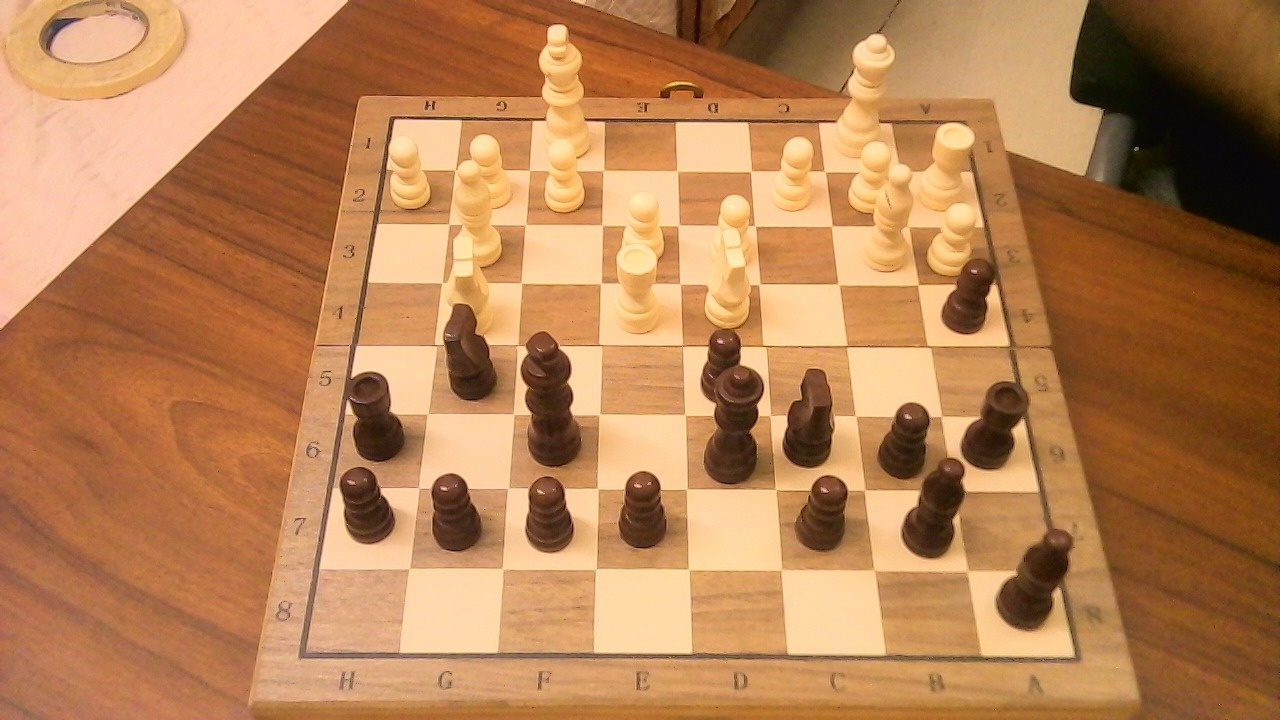B: (856, 154, 923, 277), (449, 149, 513, 271)
K: (533, 13, 598, 164)
N: (689, 217, 760, 329), (456, 232, 499, 314)
P: (610, 181, 671, 279), (841, 132, 905, 219), (923, 193, 985, 278), (764, 127, 823, 216), (459, 126, 518, 214), (535, 130, 592, 217), (382, 129, 437, 211), (705, 187, 758, 268)
Q: (829, 21, 901, 164)
R: (917, 111, 983, 216), (605, 232, 669, 340)
b: (995, 514, 1085, 634), (921, 445, 979, 564)
k: (517, 321, 594, 469)
n: (435, 288, 508, 404), (780, 354, 849, 470)
p: (330, 456, 406, 548), (421, 462, 494, 553), (937, 247, 1007, 339), (694, 320, 753, 405), (880, 400, 942, 480), (618, 470, 668, 550), (522, 477, 576, 550), (803, 475, 853, 550)
q: (697, 353, 775, 487)
r: (342, 359, 415, 464), (964, 369, 1037, 471)
